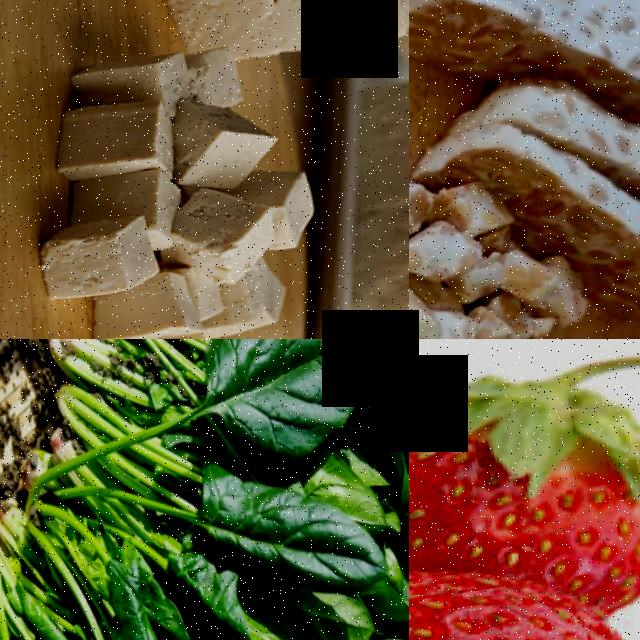spinach: (183, 455, 381, 606), (188, 339, 380, 473)
strawberry: (409, 352, 640, 578), (409, 531, 640, 640)
tempeh: (409, 82, 613, 199), (409, 0, 600, 96), (557, 199, 640, 339)
tofu: (324, 62, 409, 339), (119, 0, 409, 62), (20, 213, 154, 307), (44, 95, 175, 184), (159, 191, 275, 285), (163, 96, 270, 195), (66, 55, 185, 109), (77, 282, 188, 339), (188, 276, 285, 339)
